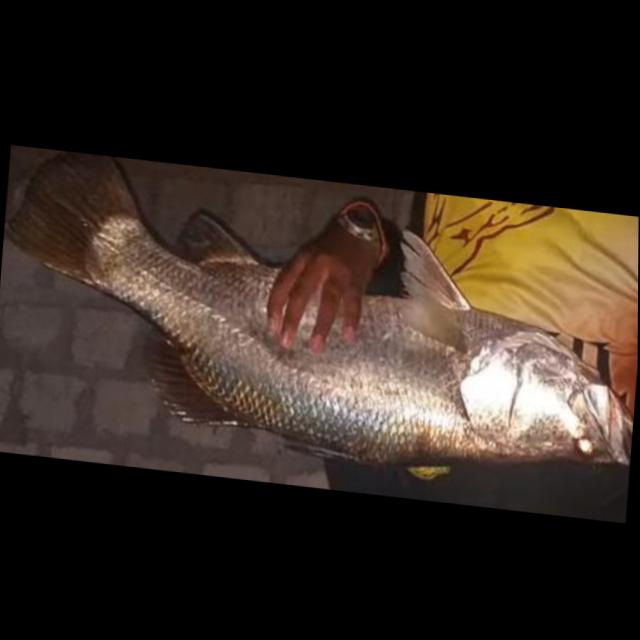Seabass: (0, 144, 639, 498)
